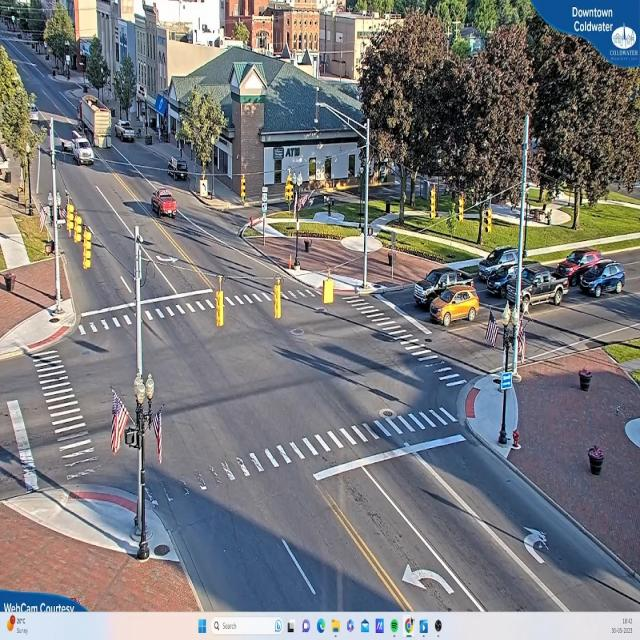car: (427, 282, 481, 326), (508, 266, 564, 304), (574, 259, 628, 298), (151, 188, 180, 220), (117, 122, 136, 143)
truck: (77, 97, 113, 148)
